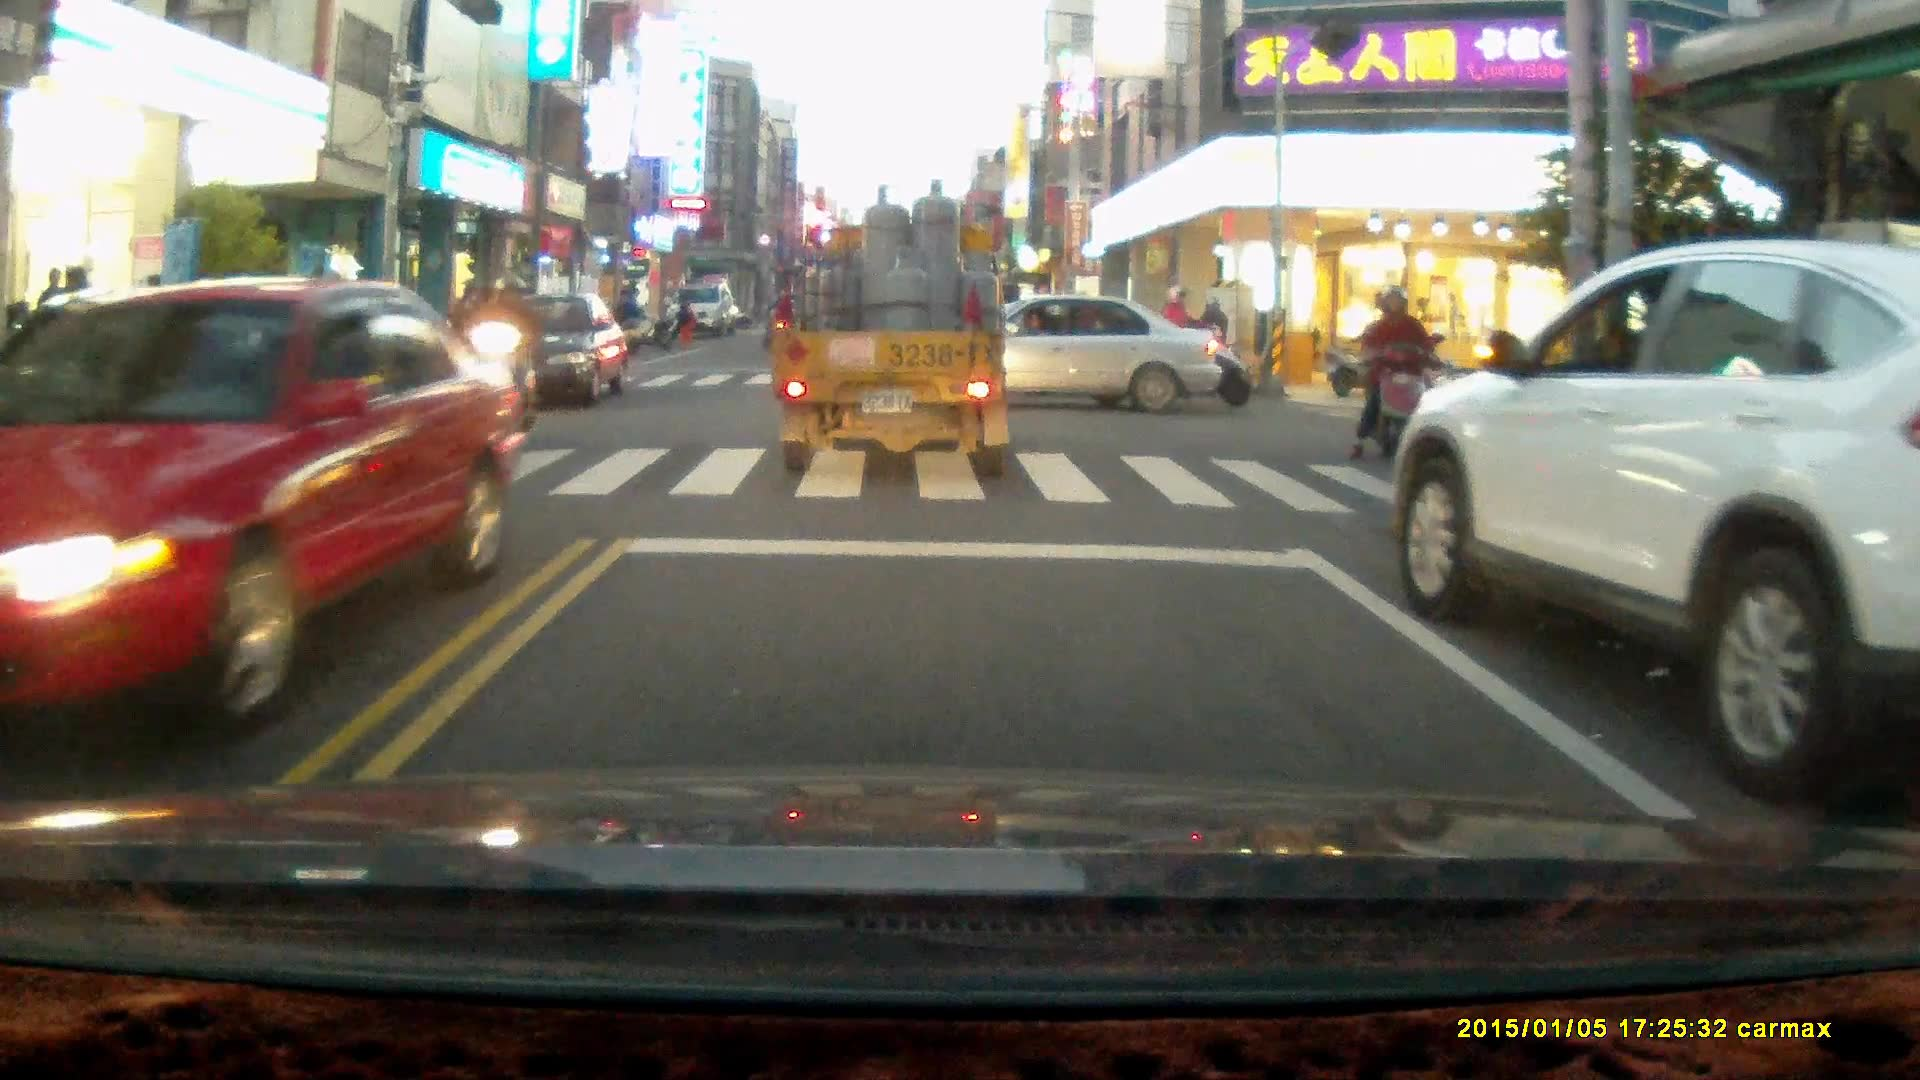pedestrian: (616, 285, 643, 348)
rider: (1343, 283, 1450, 478), (462, 277, 543, 465), (1132, 284, 1252, 409)
vehicle: (1384, 238, 1920, 815), (1, 275, 532, 780), (774, 189, 1021, 476), (878, 291, 1229, 416), (463, 285, 631, 418), (667, 284, 736, 336)
